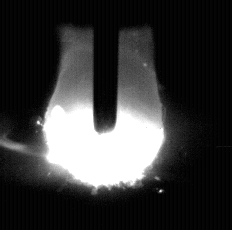arame: (94, 0, 119, 134)
poca: (41, 0, 165, 230)
